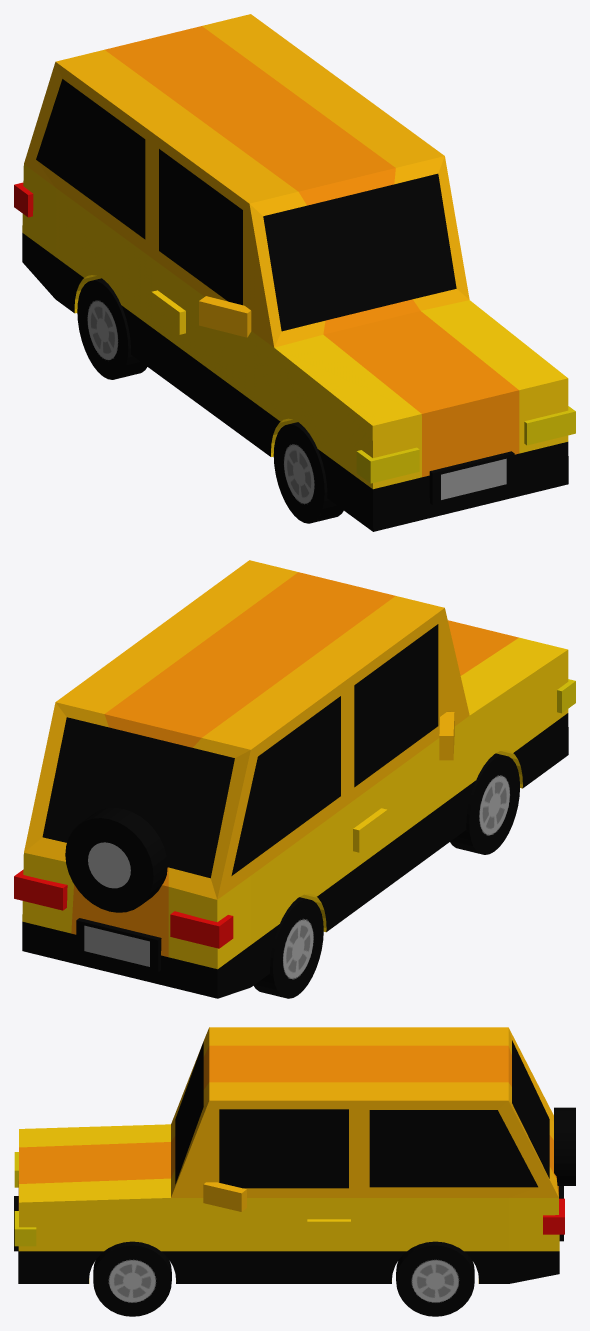
File: Mobil_4_Kuning_D.fbx
3 renders of one model, top to bottom at view 1: azimuth 30°, elevation 25°; view 2: azimuth 150°, elevation 25°; view 3: azimuth 270°, elevation 25°, orthographic. The views are drawn at different scales.
Parts seen in each view (by area): view 1: Mobil4; view 2: Mobil4; view 3: Mobil4.
Boxes of the visible parts, x1,y1,x2,y2 form: Mobil4: (14, 14, 575, 531); Mobil4: (14, 560, 575, 998); Mobil4: (14, 1027, 575, 1316).
Size of the model in its own units: 519 by 546 by 1287.
Materials: 6 (4 with a texture image).
